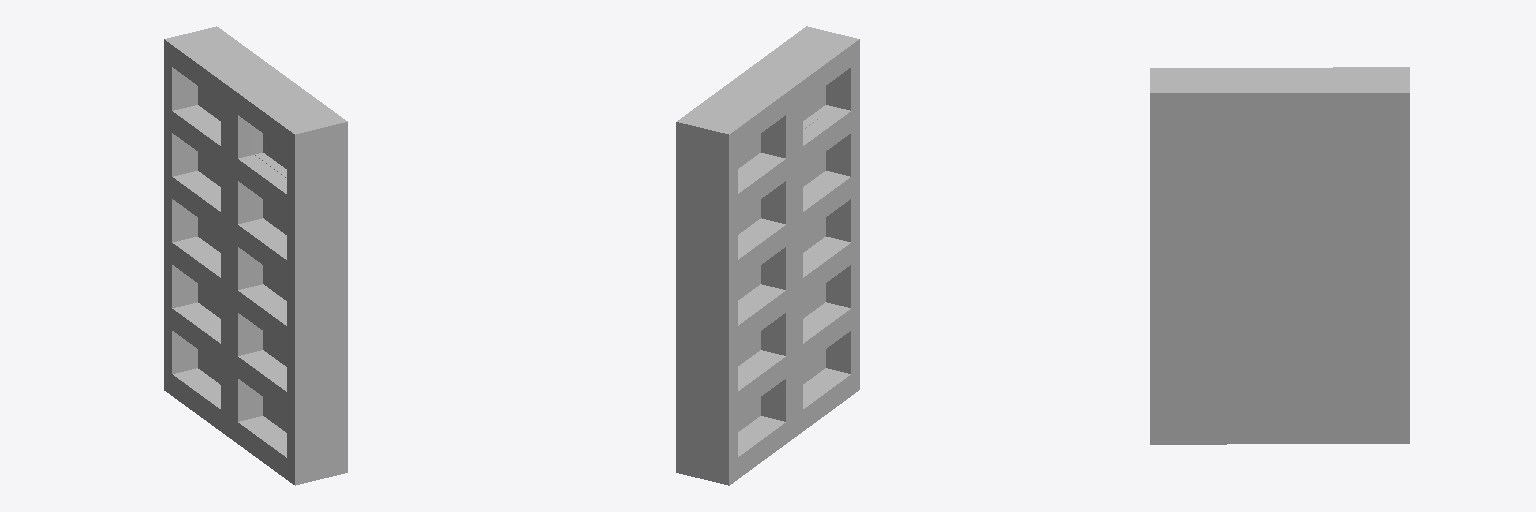
The model's file is Shelves.obj.
3 renders of one model, left to right at view 1: azimuth 30°, elevation 25°; view 2: azimuth 150°, elevation 25°; view 3: azimuth 270°, elevation 25°, orthographic.
Parts seen in each view (by area): view 1: Bookcase Props; view 2: Bookcase Props; view 3: Bookcase Props.
Part boxes in pixels (x1,y1,x2,y2): Bookcase Props: (164,26,347,485); Bookcase Props: (676,26,859,485); Bookcase Props: (1150,67,1409,444).
Bounding box in the file's own units: 1.32 × 8.29 × 5.58.